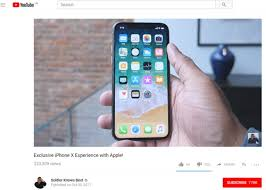iphone: (111, 18, 175, 141)
iphone10: (111, 20, 175, 143)
